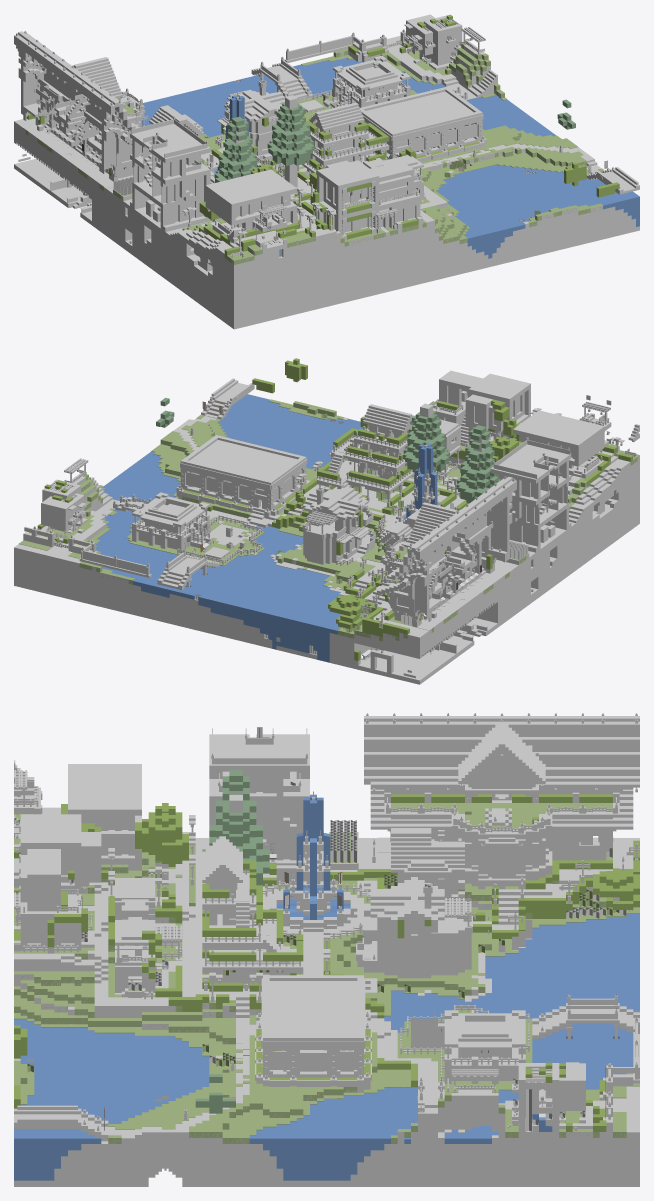
File: town_hall_draco.glb
3 renders of one model, top to bottom at view 1: azimuth 30°, elevation 25°; view 2: azimuth 150°, elevation 25°; view 3: azimuth 270°, elevation 25°, orthographic. The views are drawn at different scales.
Bounding box in the file's own units: 99.04 × 33 × 93.
